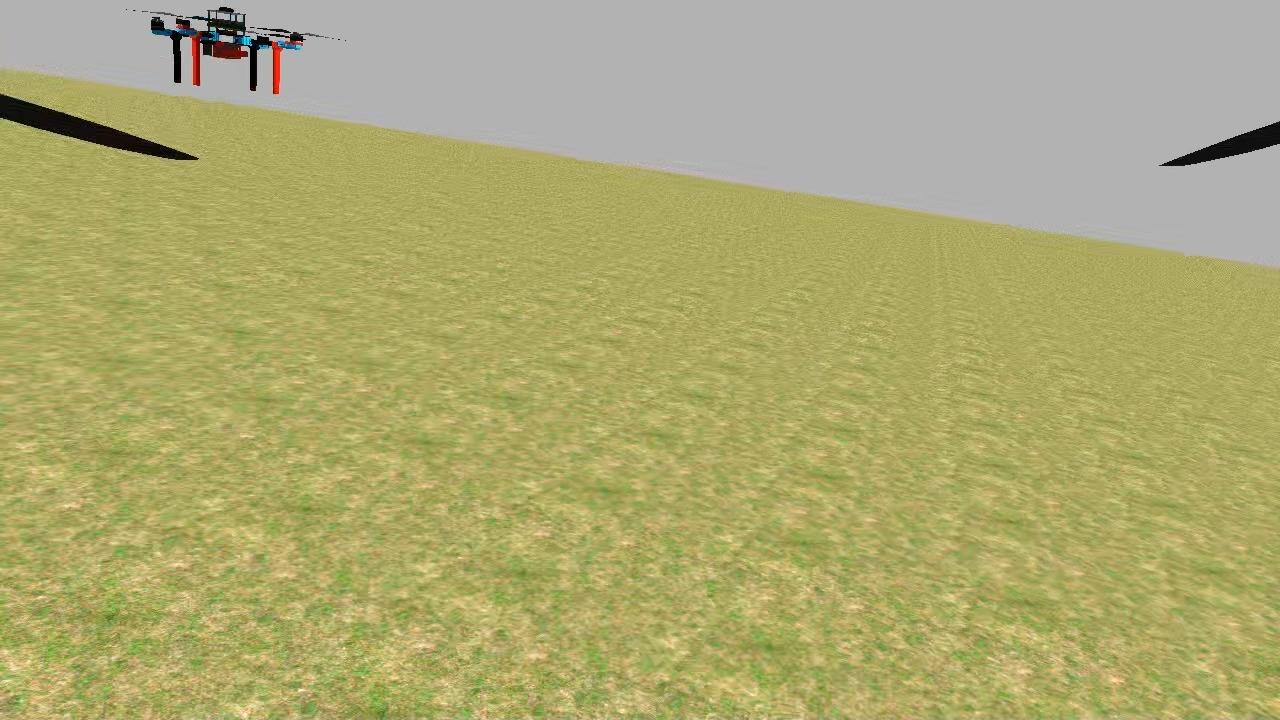UAV: (142, 4, 310, 102)
